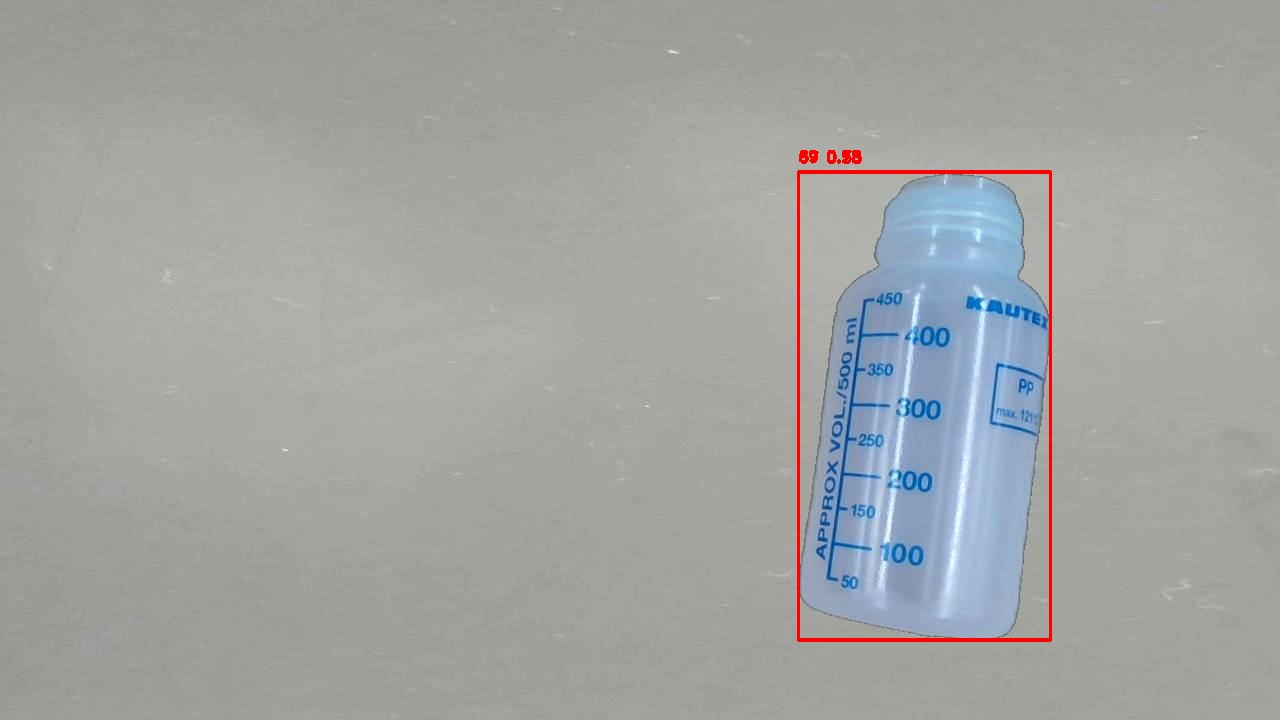cup: (798, 171, 1050, 640), (798, 172, 1050, 639)
